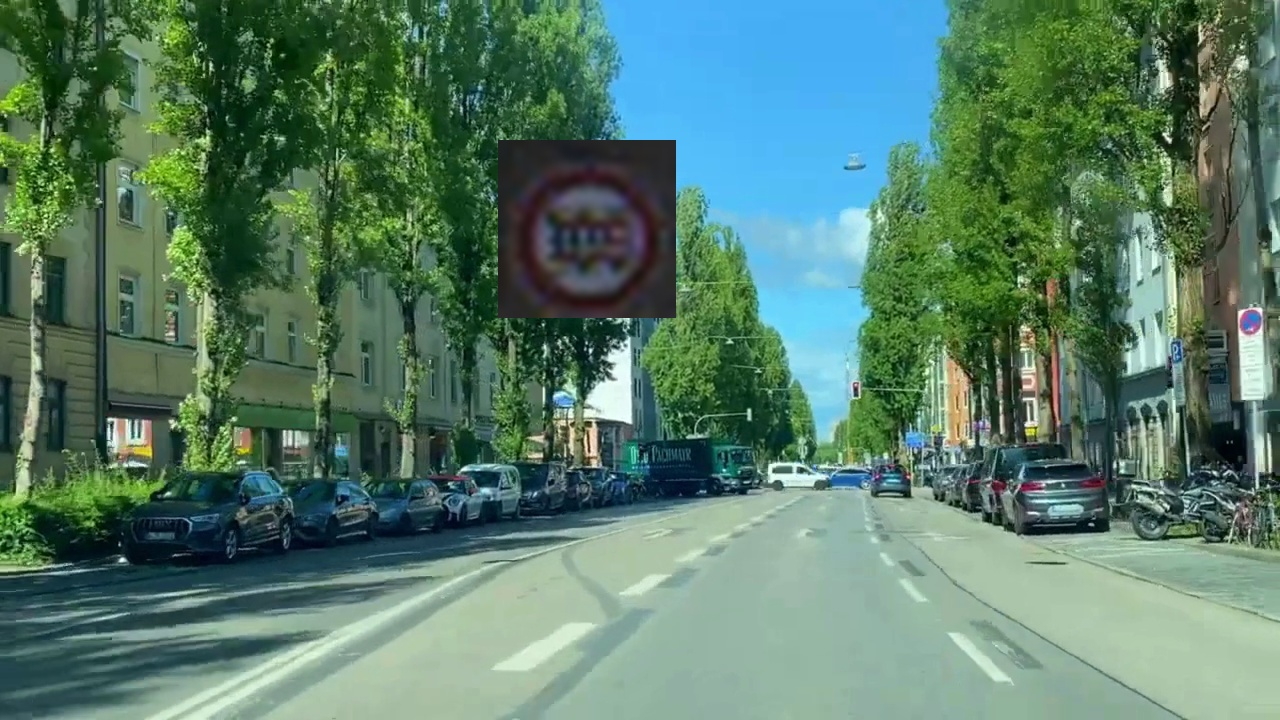Speed 100: (498, 140, 676, 318)
